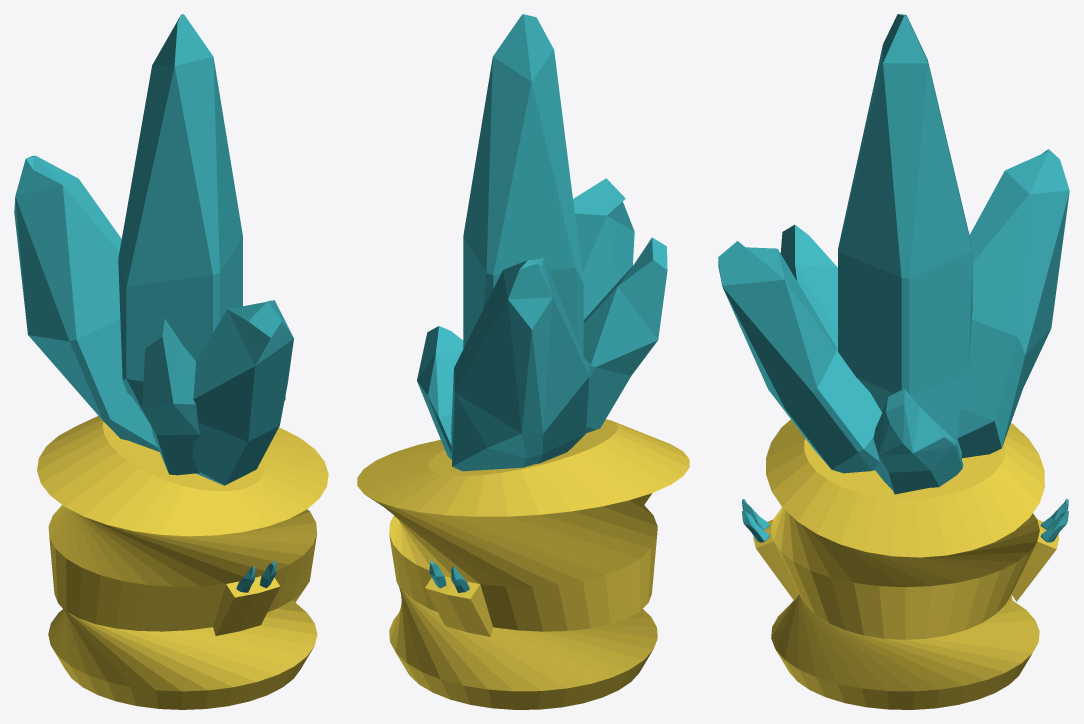
The model's file is Crystal.fbx.
The picture shows the model from 3 angles, left to right: view 1: azimuth 30°, elevation 25°; view 2: azimuth 150°, elevation 25°; view 3: azimuth 270°, elevation 25°; orthographic projection.
Parts seen in each view (by area): view 1: Socle pour crystal, Crystal, Crystal.004, Crystal.001, Crystal.002, Mini-Crystal.005; view 2: Socle pour crystal, Crystal, Crystal.004, Crystal.002, Crystal.001, Crystal.003, Mini-Crystal.005; view 3: Socle pour crystal, Crystal, Crystal.004, Crystal.001, Crystal.003, Crystal.002, Mini-Crystal.005.
Part boxes in pixels (bbox=[...]): Socle pour crystal: bbox=[37, 416, 328, 709]; Crystal: bbox=[118, 14, 242, 419]; Crystal.004: bbox=[14, 155, 159, 451]; Crystal.001: bbox=[192, 300, 293, 485]; Crystal.002: bbox=[142, 318, 199, 475]; Mini-Crystal.005: bbox=[236, 560, 276, 592]; Socle pour crystal: bbox=[357, 419, 689, 709]; Crystal: bbox=[463, 14, 583, 356]; Crystal.004: bbox=[451, 258, 589, 471]; Crystal.002: bbox=[583, 237, 667, 433]; Crystal.001: bbox=[573, 178, 634, 319]; Crystal.003: bbox=[417, 326, 463, 459]; Mini-Crystal.005: bbox=[429, 560, 469, 592]; Socle pour crystal: bbox=[753, 419, 1059, 709]; Crystal: bbox=[838, 14, 972, 459]; Crystal.004: bbox=[957, 149, 1069, 458]; Crystal.001: bbox=[718, 241, 881, 473]; Crystal.003: bbox=[873, 388, 963, 494]; Crystal.002: bbox=[780, 224, 837, 348]; Mini-Crystal.005: bbox=[742, 499, 1068, 542].
Bounding box in the file's own units: 240 × 528 × 261.
